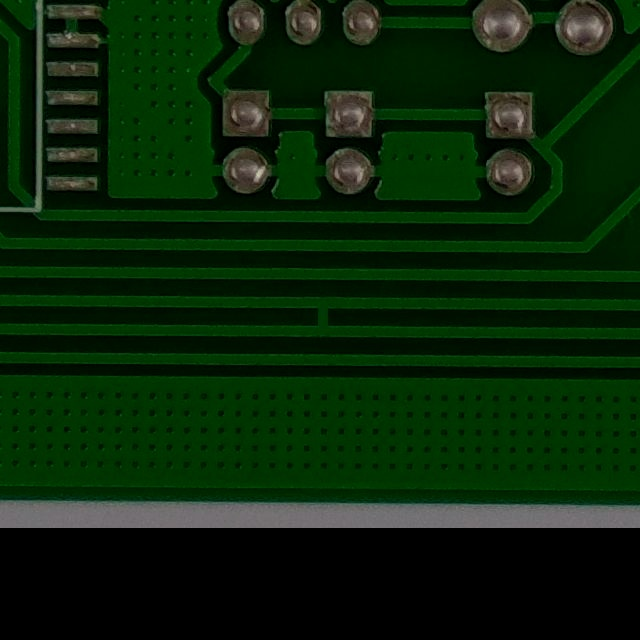short: (294, 289, 347, 351)
